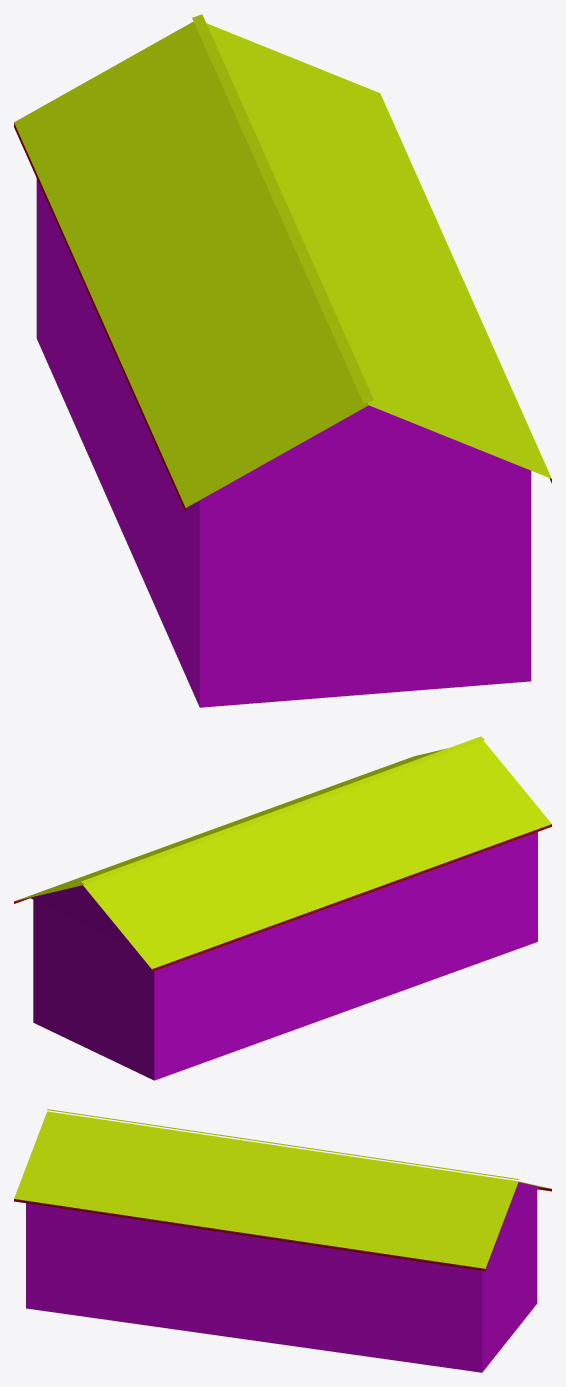
Rendered from btm_3.glb.
The picture shows the model from 3 angles, top to bottom: view 1: azimuth 30°, elevation 25°; view 2: azimuth 150°, elevation 25°; view 3: azimuth 270°, elevation 25°; orthographic projection. The views are drawn at different scales.
Parts seen in each view (by area): view 1: btm_3; view 2: btm_3; view 3: btm_3.
Boxes of the visible parts, left/top/right/bottom form: btm_3: left=14, top=14, right=551, bottom=707; btm_3: left=14, top=736, right=551, bottom=1080; btm_3: left=14, top=1109, right=551, bottom=1372.
Size of the model in its own units: 14.95 by 7.54 by 22.67.
